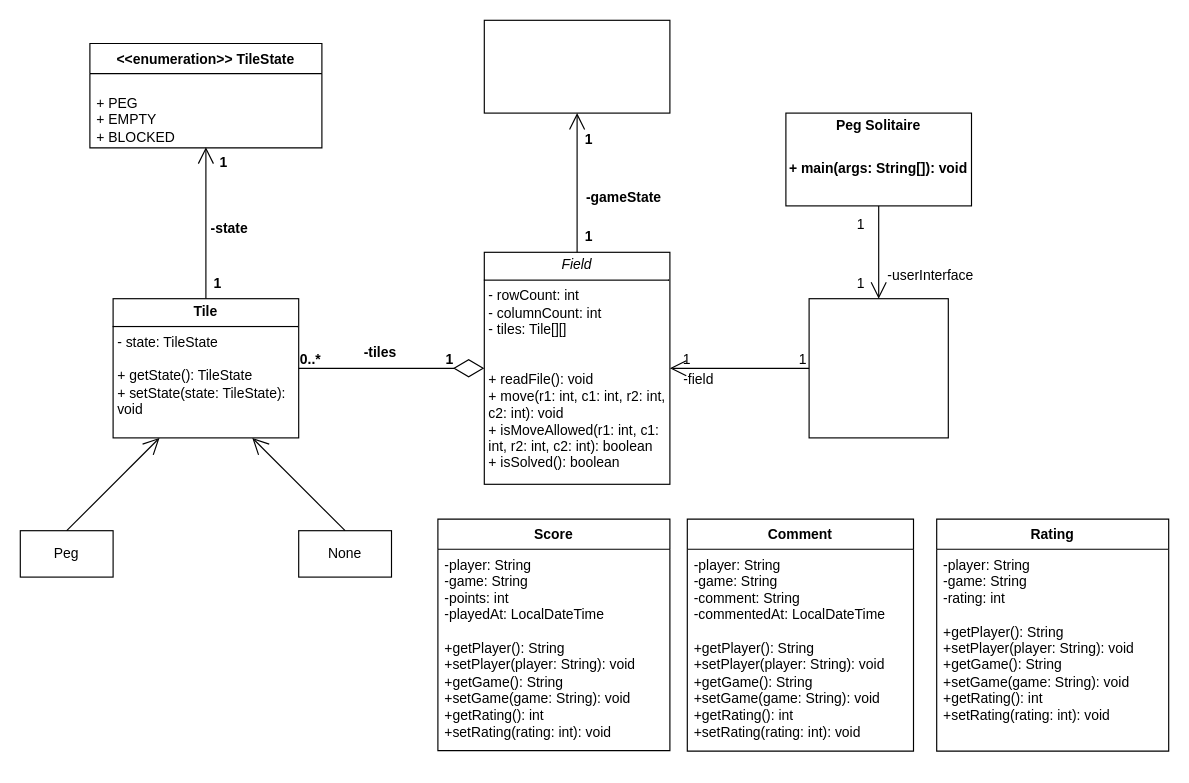
This 1189x783 diagram has some shape labels left out. The shapes that lost their labels are listed below. From the top down, each one's centre as x and y in pixels, then its label:
the point at 576,66: Game state +PLAYING +SOLVED +FAILED
the point at 878,368: ConsoleUI - field: Field + ConsoleUI(field: Field) + play(): void + show(): void
